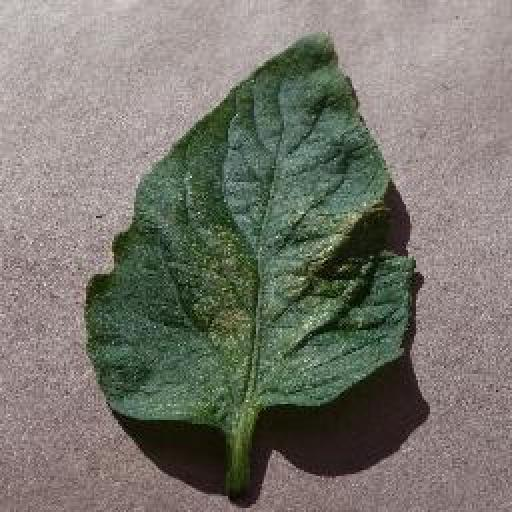disease_tomato: (87, 28, 417, 427)
